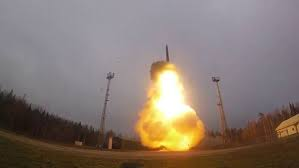ten_lua: (156, 39, 177, 70)
